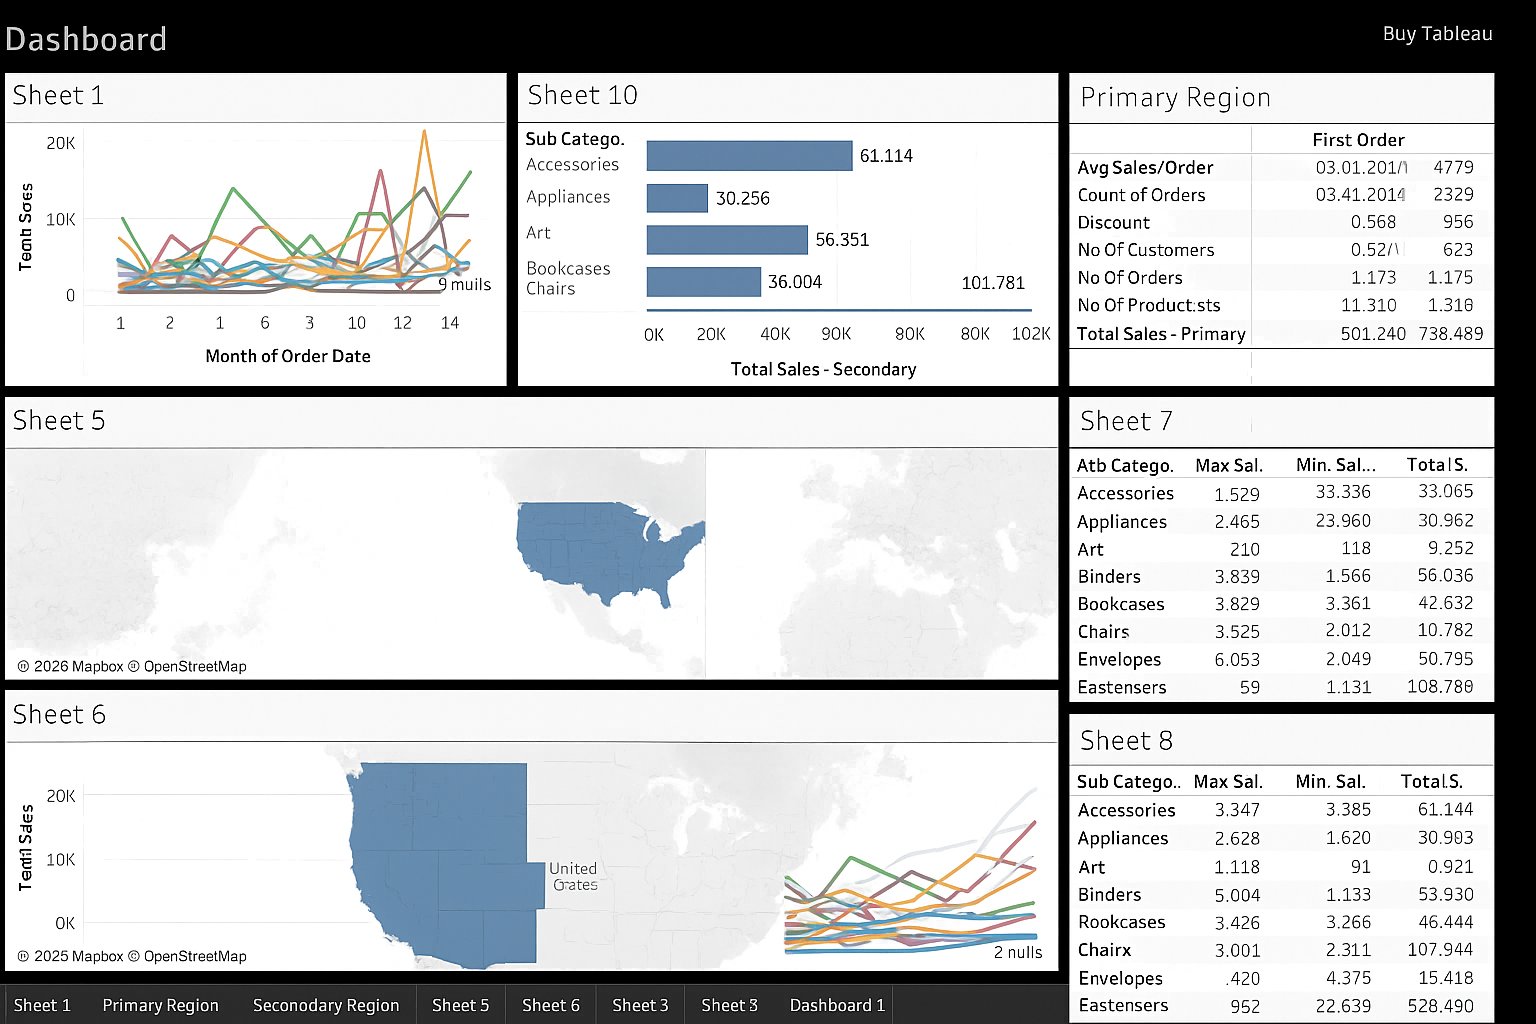

Layout of this report page (visuals, bound fields, positions):
{"tool":"tableau","page":{"name":"Dashboard 1","canvas":[650,860],"ordinal":0},"visuals":[{"type":"title","box":[8,12.3,634,63]},{"type":"worksheet","title":"Sheet 1","mark":"Automatic","rows":["Calculation_1157425168512450567"],"cols":["Order Date"],"box":[8,75.3,118.5,193.1]},{"type":"worksheet","title":"Sheet 10","mark":"Automatic","rows":["Sub-Category"],"cols":["Calculation_1157425168512618504"],"box":[126.5,75.3,118.5,193.1]},{"type":"worksheet","title":"Primary Region","mark":"Automatic","rows":["Calculation_1157425168509259782"],"box":[245,75.3,237,193.1]},{"type":"legend","title":"Sheet 1","param":"[federated.0p0yrrn0vdo9ez12rz6u40gx2huv].[none:Sub-Category:nk]","box":[482,75.3,160,306.4]},{"type":"worksheet","title":"Sheet 5","mark":"Multipolygon","box":[8,268.3,237,193.1]},{"type":"worksheet","title":"Sheet 7","mark":"Automatic","rows":["Sub-Category"],"box":[245,268.3,237,193.1]},{"type":"parameter","param":"[Parameters].[Parameter 1]","box":[482,381.6,160,79.9]},{"type":"worksheet","title":"Sheet 2","mark":"Automatic","rows":["Calculation_1157425168512618504"],"cols":["Order Date"],"box":[8,461.5,237,193.1]},{"type":"worksheet","title":"Secondary Region","mark":"Automatic","rows":["Calculation_1157425168509259782"],"box":[245,461.5,237,193.1]},{"type":"parameter","param":"[Parameters].[Parameter 2]","box":[482,461.5,160,79.9]},{"type":"worksheet","title":"Sheet 9","mark":"Automatic","rows":["Sub-Category"],"cols":["Calculation_1157425168512450567"],"box":[482,541.3,160,306.4]},{"type":"worksheet","title":"Sheet 6","mark":"Multipolygon","box":[8,654.6,237,193.2]},{"type":"worksheet","title":"Sheet 8","mark":"Automatic","rows":["Sub-Category"],"box":[245,654.6,237,193.2]}]}

Visuals, with their boxes on the page's 650x860 design canvas (x1, y1, x2, y2). These are canvas units, not pixel positions in the 1536x1024 screenshot, which may show the page scaled, cropped or inside an application window:
title: [8,12,642,75]
"Sheet 1" worksheet: [8,75,126,268]
"Sheet 10" worksheet: [126,75,245,268]
"Primary Region" worksheet: [245,75,482,268]
"Sheet 1" legend: [482,75,642,382]
"Sheet 5" worksheet (Multipolygon marks): [8,268,245,461]
"Sheet 7" worksheet: [245,268,482,461]
parameter: [482,382,642,462]
"Sheet 2" worksheet: [8,462,245,655]
"Secondary Region" worksheet: [245,462,482,655]
parameter: [482,462,642,541]
"Sheet 9" worksheet: [482,541,642,848]
"Sheet 6" worksheet (Multipolygon marks): [8,655,245,848]
"Sheet 8" worksheet: [245,655,482,848]
